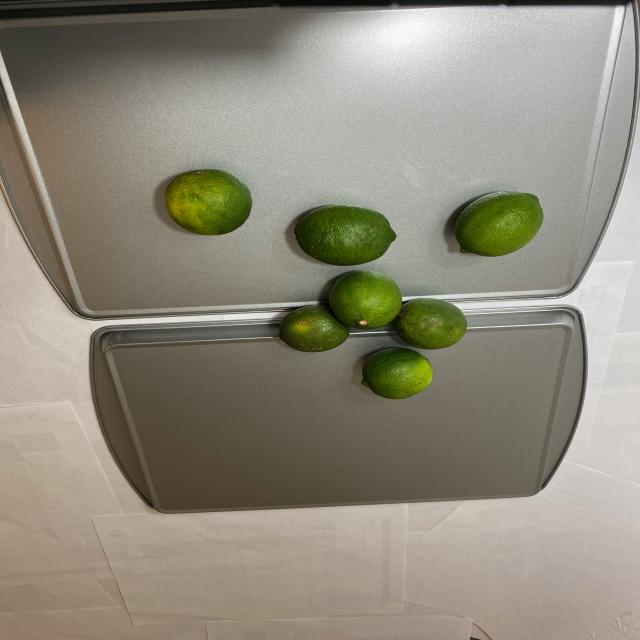lemon: (157, 172, 544, 402)
